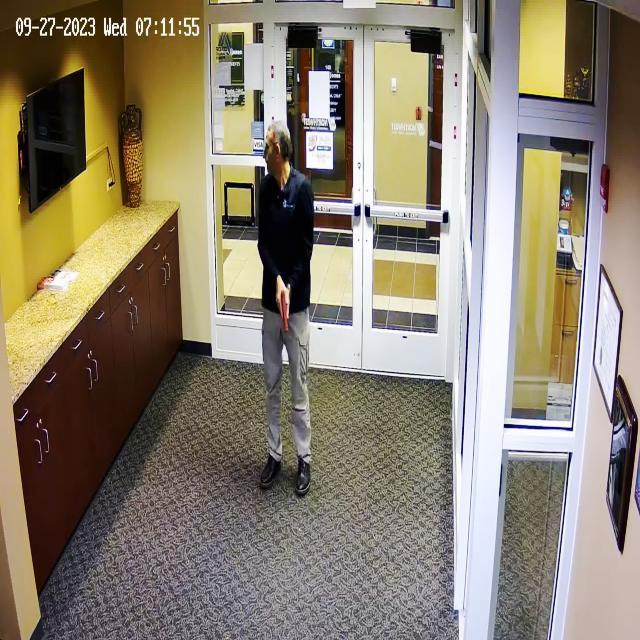Gun: (266, 274, 309, 338)
